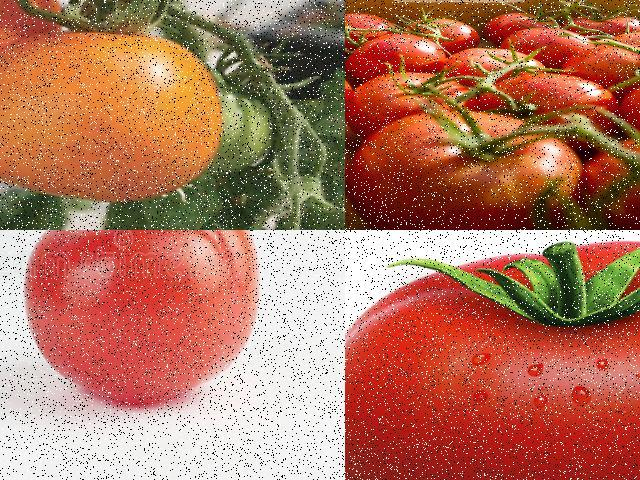tomato: (345, 232, 639, 479), (29, 230, 275, 421), (0, 32, 248, 194), (367, 107, 583, 229), (479, 74, 627, 136), (345, 65, 478, 133), (586, 139, 639, 228), (498, 30, 594, 66), (398, 17, 479, 53), (473, 12, 560, 38), (565, 10, 639, 40), (345, 12, 402, 49), (603, 36, 639, 60)
